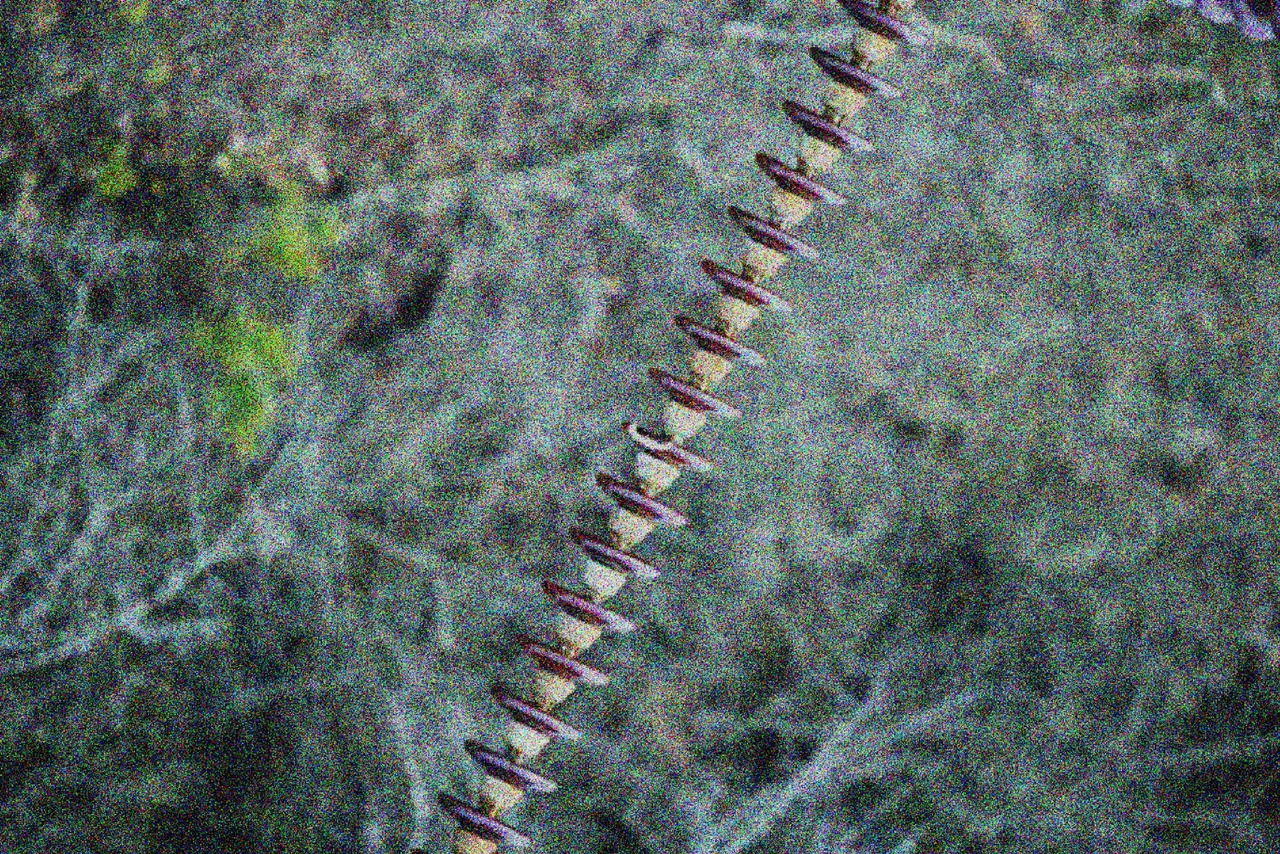Broken: (617, 419, 715, 491)
No issues: (779, 94, 877, 166), (465, 737, 562, 809), (567, 518, 664, 590), (698, 249, 795, 321), (726, 201, 823, 273), (806, 41, 903, 113), (541, 577, 638, 648), (486, 684, 583, 755), (514, 631, 611, 702), (593, 468, 690, 539), (646, 361, 743, 432), (672, 306, 769, 377), (754, 147, 851, 218), (437, 788, 537, 854), (839, 0, 933, 62)
String: (427, 0, 934, 853)
